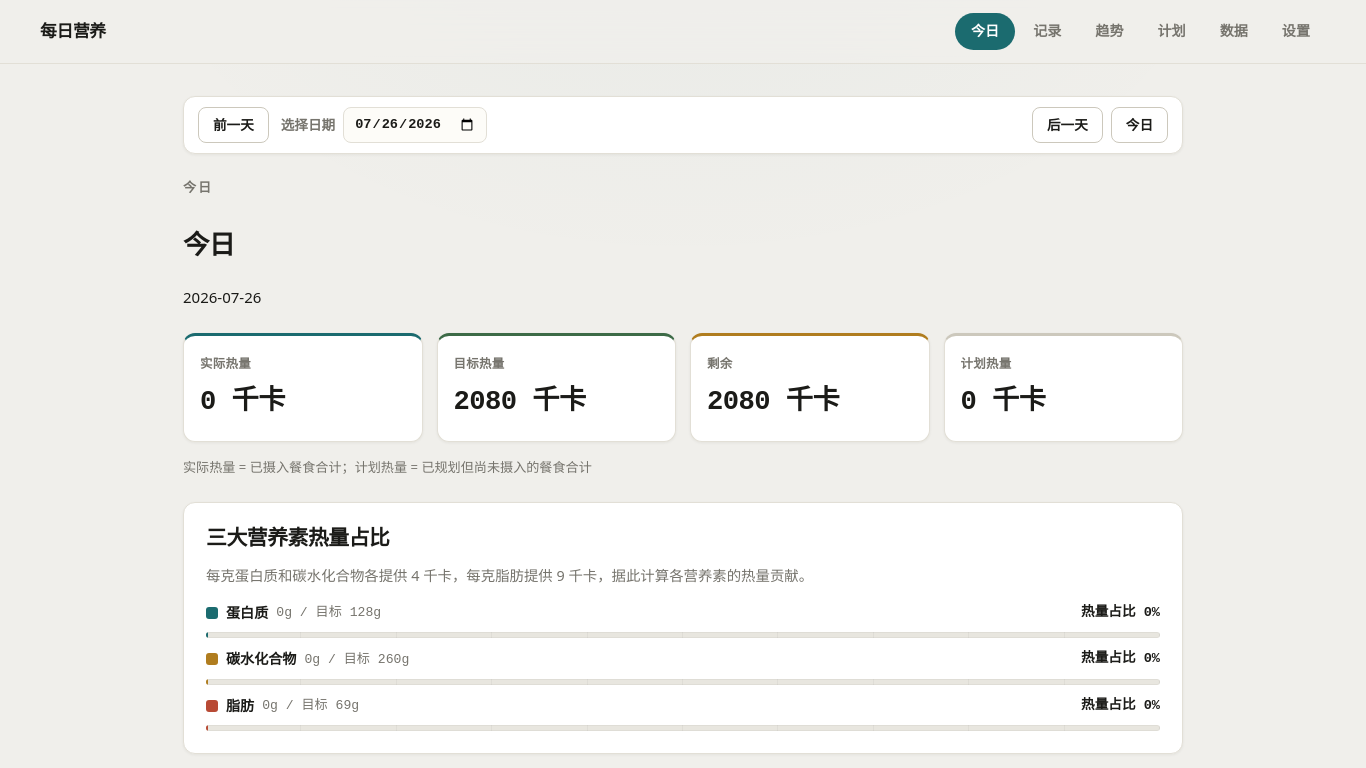
Test: plan audit metadata › custom plan displays calculation rule and inputs
Check: the heading "今日" is shown, box [183,226,235,262]
Click the button "计划".
click(1172, 31)  # box [1142,13,1202,50]
(page scrolled)
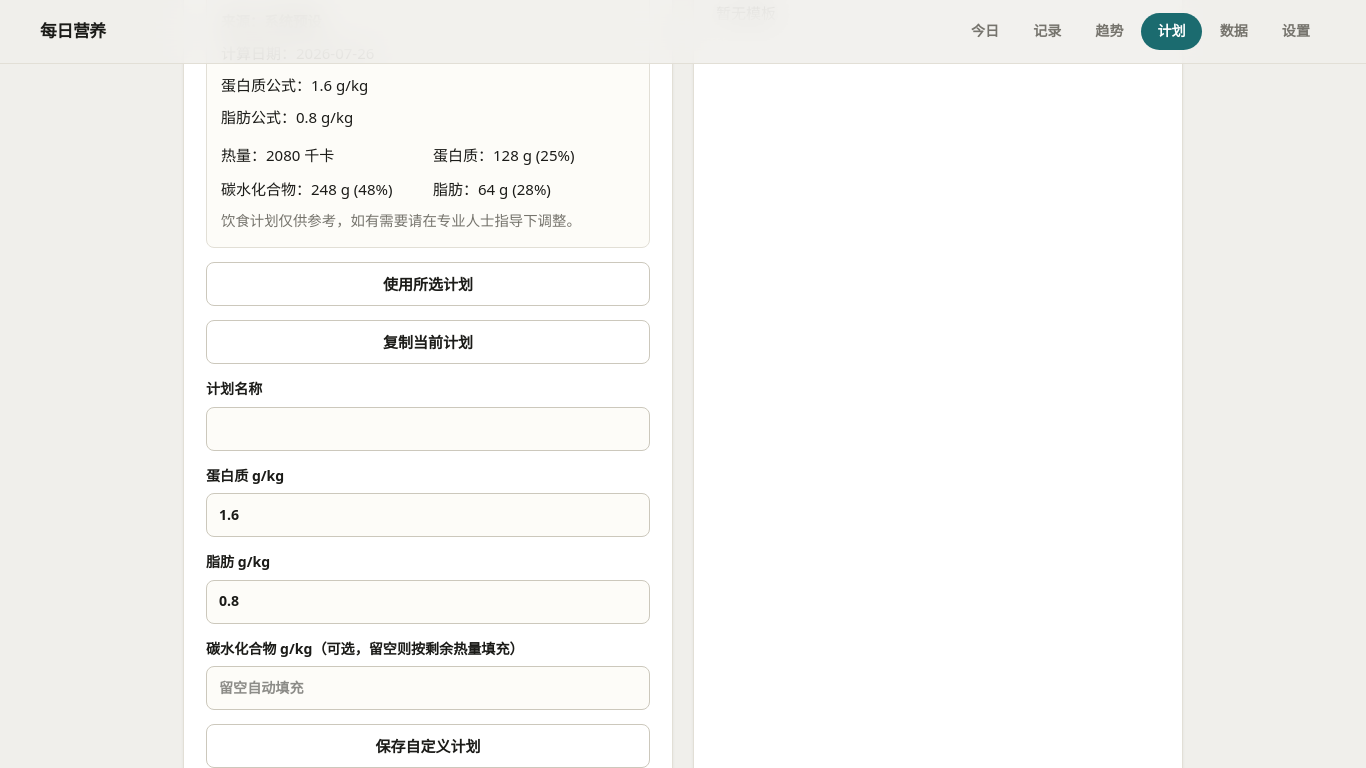
Type "Blogger plan" into the field labelled "计划名称".
click(428, 428); type("Blogger plan")  # box [206,406,650,450]
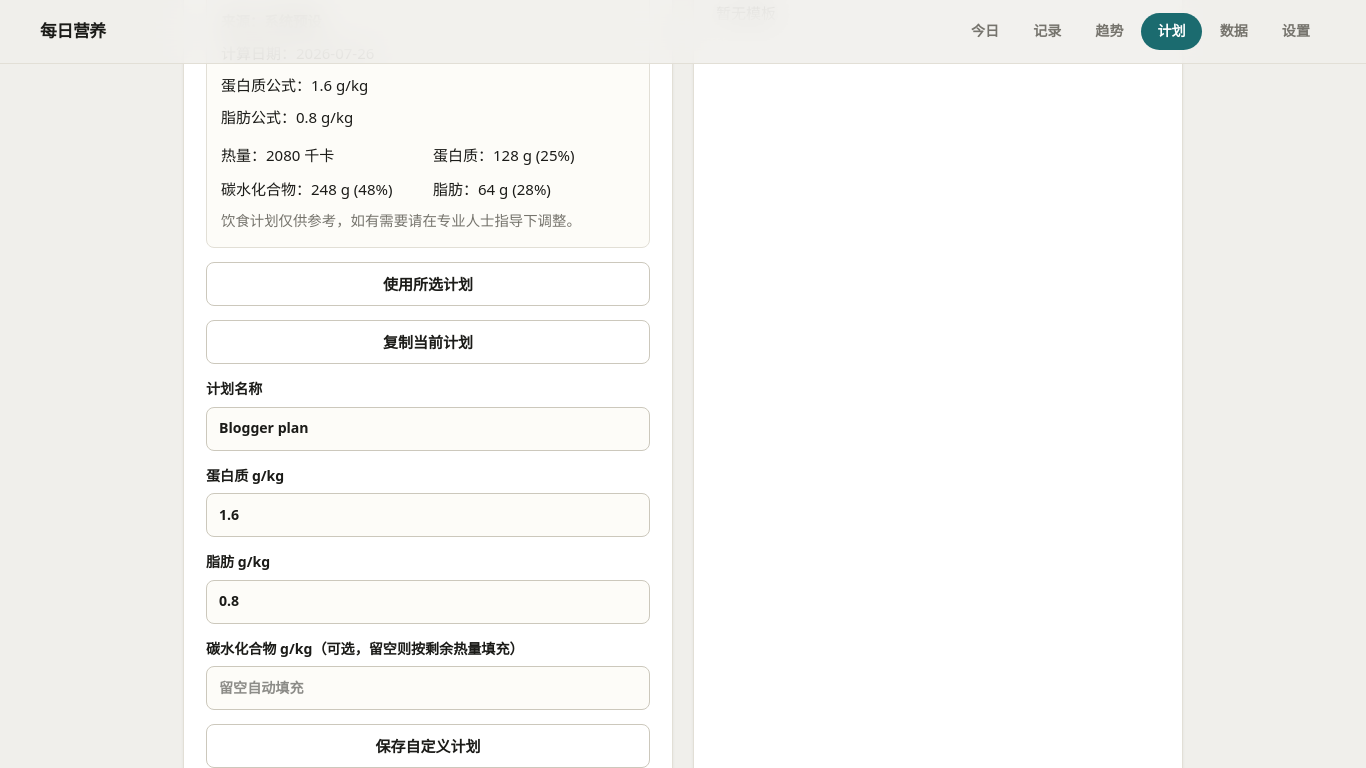
Replace the text in the number field labelled "蛋白质 g/kg" with "2.0" at (428, 515), box [206,493,650,537]
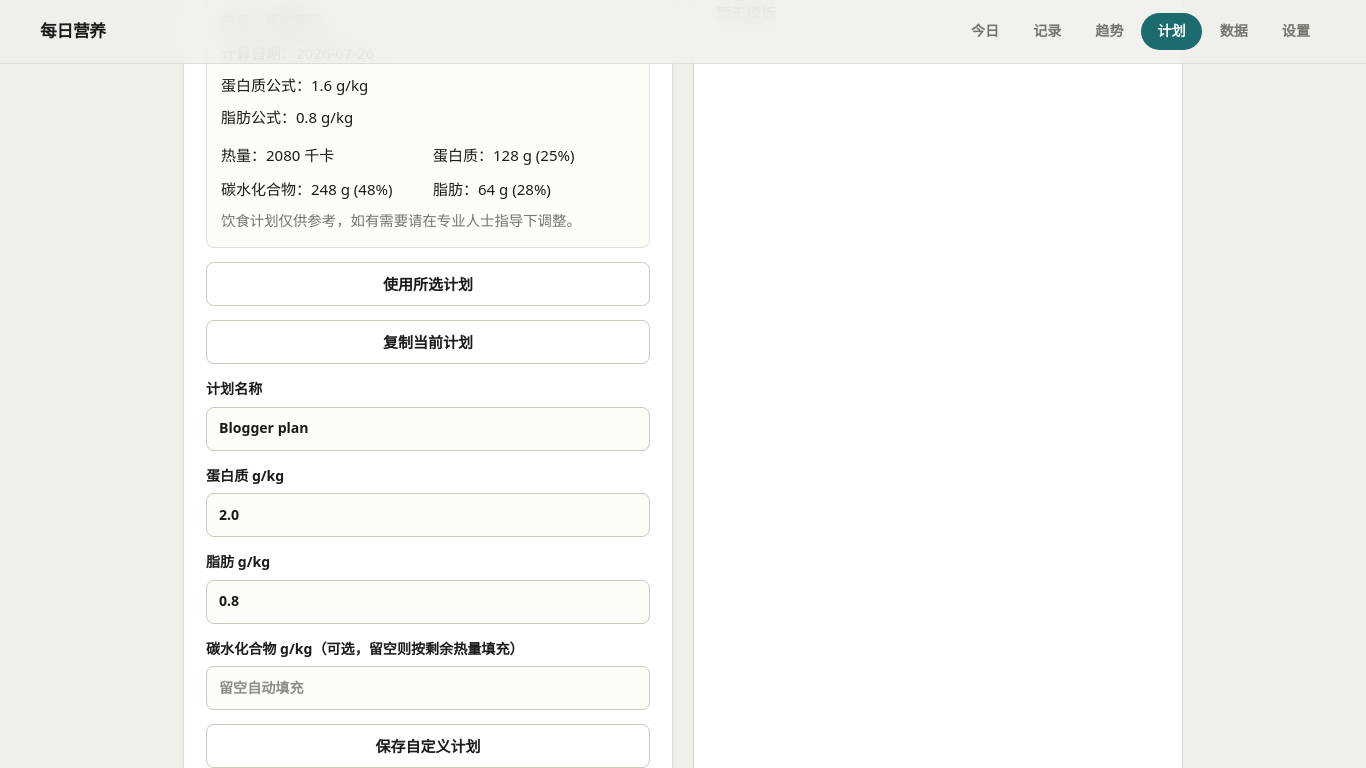
Replace the text in the number field labelled "脂肪 g/kg" with "0.7" at (428, 602), box [206,580,650,624]
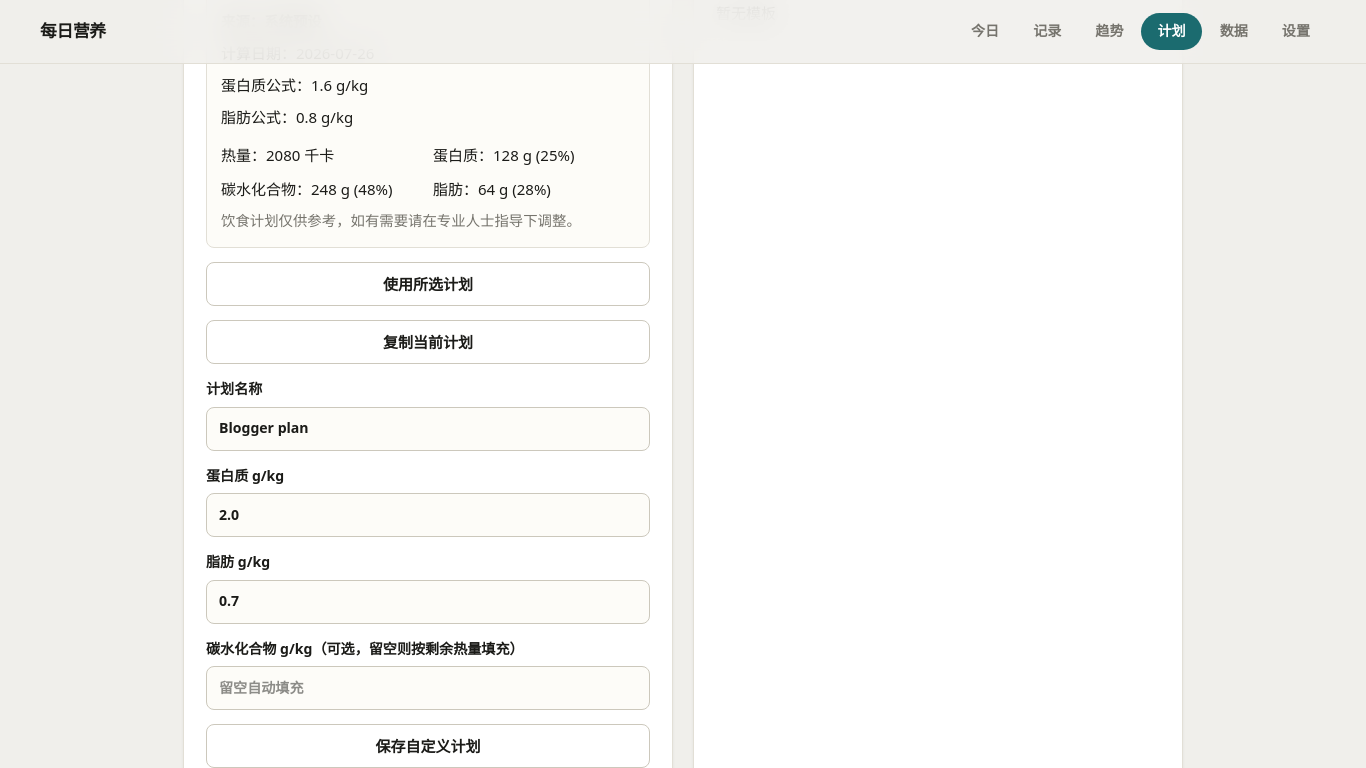
Click the button "保存自定义计划".
click(428, 746)  # box [206,724,650,767]
(page scrolled)
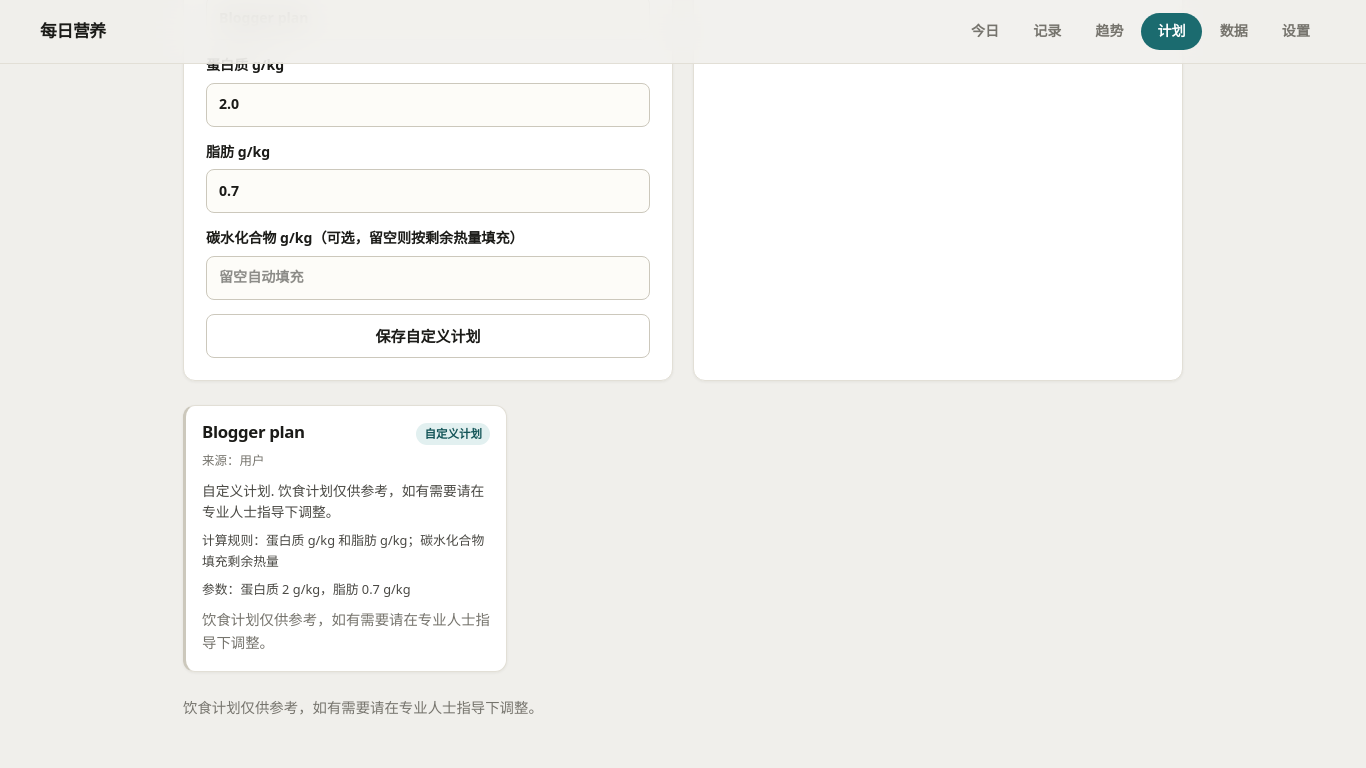
Check: the text "参数：蛋白质 2 g/kg，脂肪 0.7 g/kg" is shown, box [202,580,411,598]
